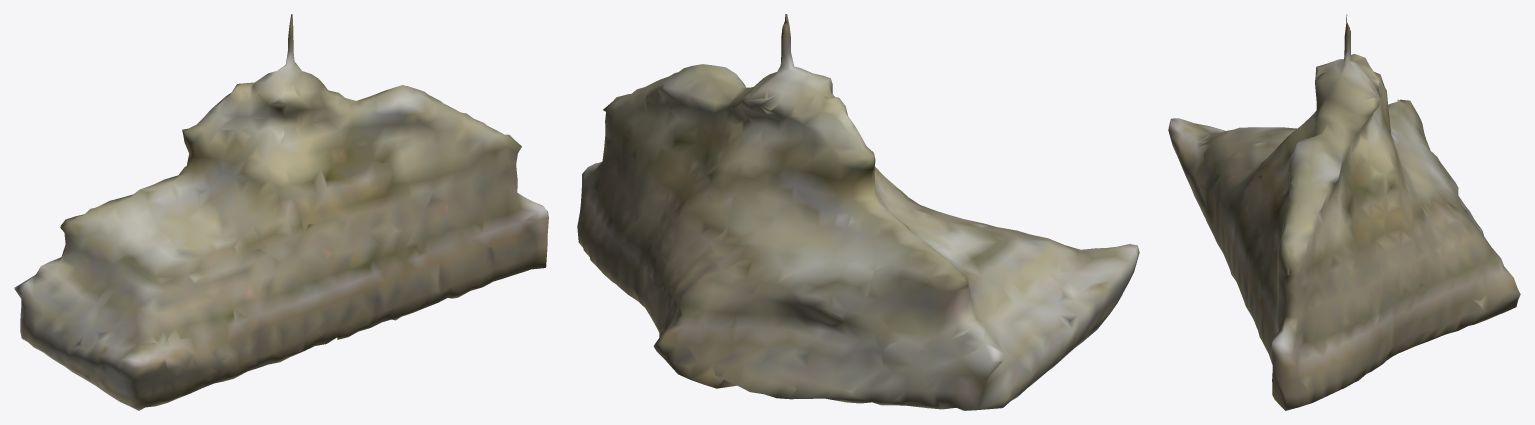
File: kremlin_palace.glb
3 renders of one model, left to right at view 1: azimuth 30°, elevation 25°; view 2: azimuth 150°, elevation 25°; view 3: azimuth 270°, elevation 25°, orthographic. The views are drawn at different scales.
Parts seen in each view (by area): view 1: kremlin_palace; view 2: kremlin_palace; view 3: kremlin_palace.
Boxes of the visible parts, x1,y1,x2,y2 form: kremlin_palace: (14,14,548,410); kremlin_palace: (577,14,1139,410); kremlin_palace: (1168,14,1520,410).
Size of the model in its own units: 2.36 by 1.38 by 1.51.
